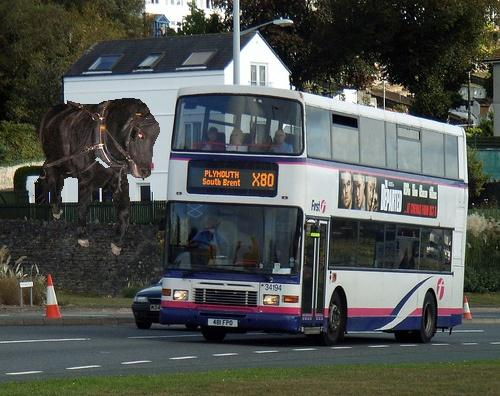tampered: (34, 99, 160, 255)
